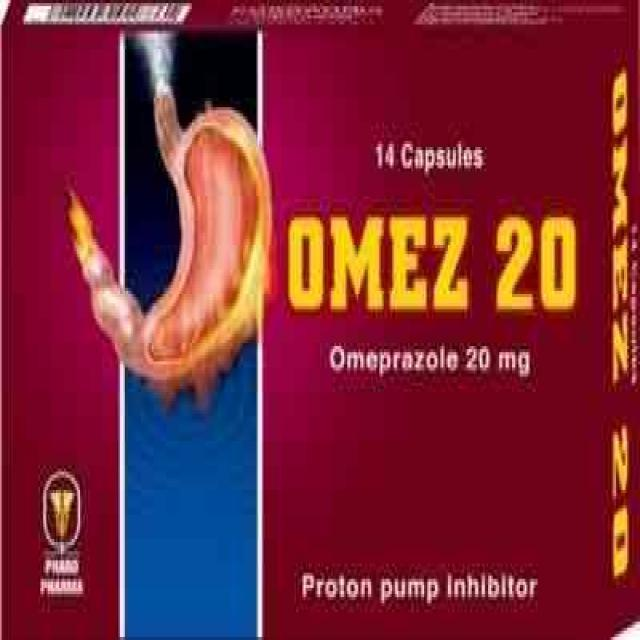drug-name: (278, 206, 580, 316)
